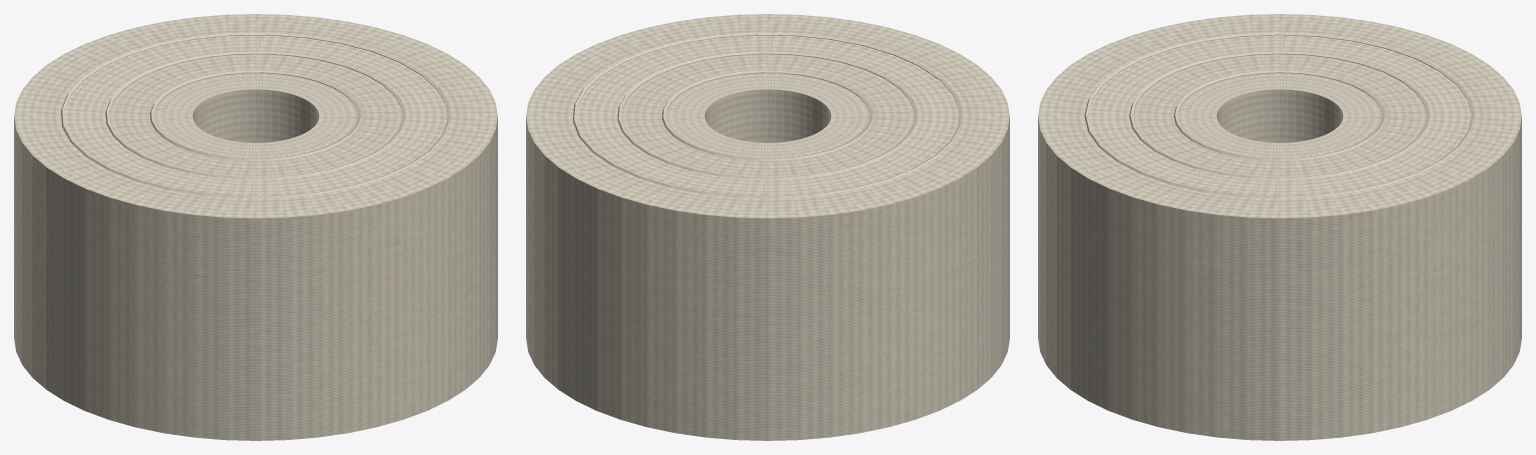
File: 02_Bandage_Roll_65mm.glb
3 views of the same model, side by side, from view 1: azimuth 30°, elevation 25°; view 2: azimuth 150°, elevation 25°; view 3: azimuth 270°, elevation 25° (orthographic).
Parts seen in each view (by area): view 1: BANDAGE65_WovenCottonCore, BANDAGE65_SurfaceSpiral; view 2: BANDAGE65_WovenCottonCore, BANDAGE65_SurfaceSpiral; view 3: BANDAGE65_WovenCottonCore, BANDAGE65_SurfaceSpiral.
Boxes of the visible parts, <box> form: BANDAGE65_WovenCottonCore: <box>14,14,497,440</box>; BANDAGE65_SurfaceSpiral: <box>61,32,450,198</box>; BANDAGE65_WovenCottonCore: <box>526,14,1009,440</box>; BANDAGE65_SurfaceSpiral: <box>573,32,962,198</box>; BANDAGE65_WovenCottonCore: <box>1038,14,1521,440</box>; BANDAGE65_SurfaceSpiral: <box>1084,32,1475,198</box>.
Bounding box in the file's own units: 0.065 × 0.0332 × 0.065.
Materials: 1 (1 with a texture image).
